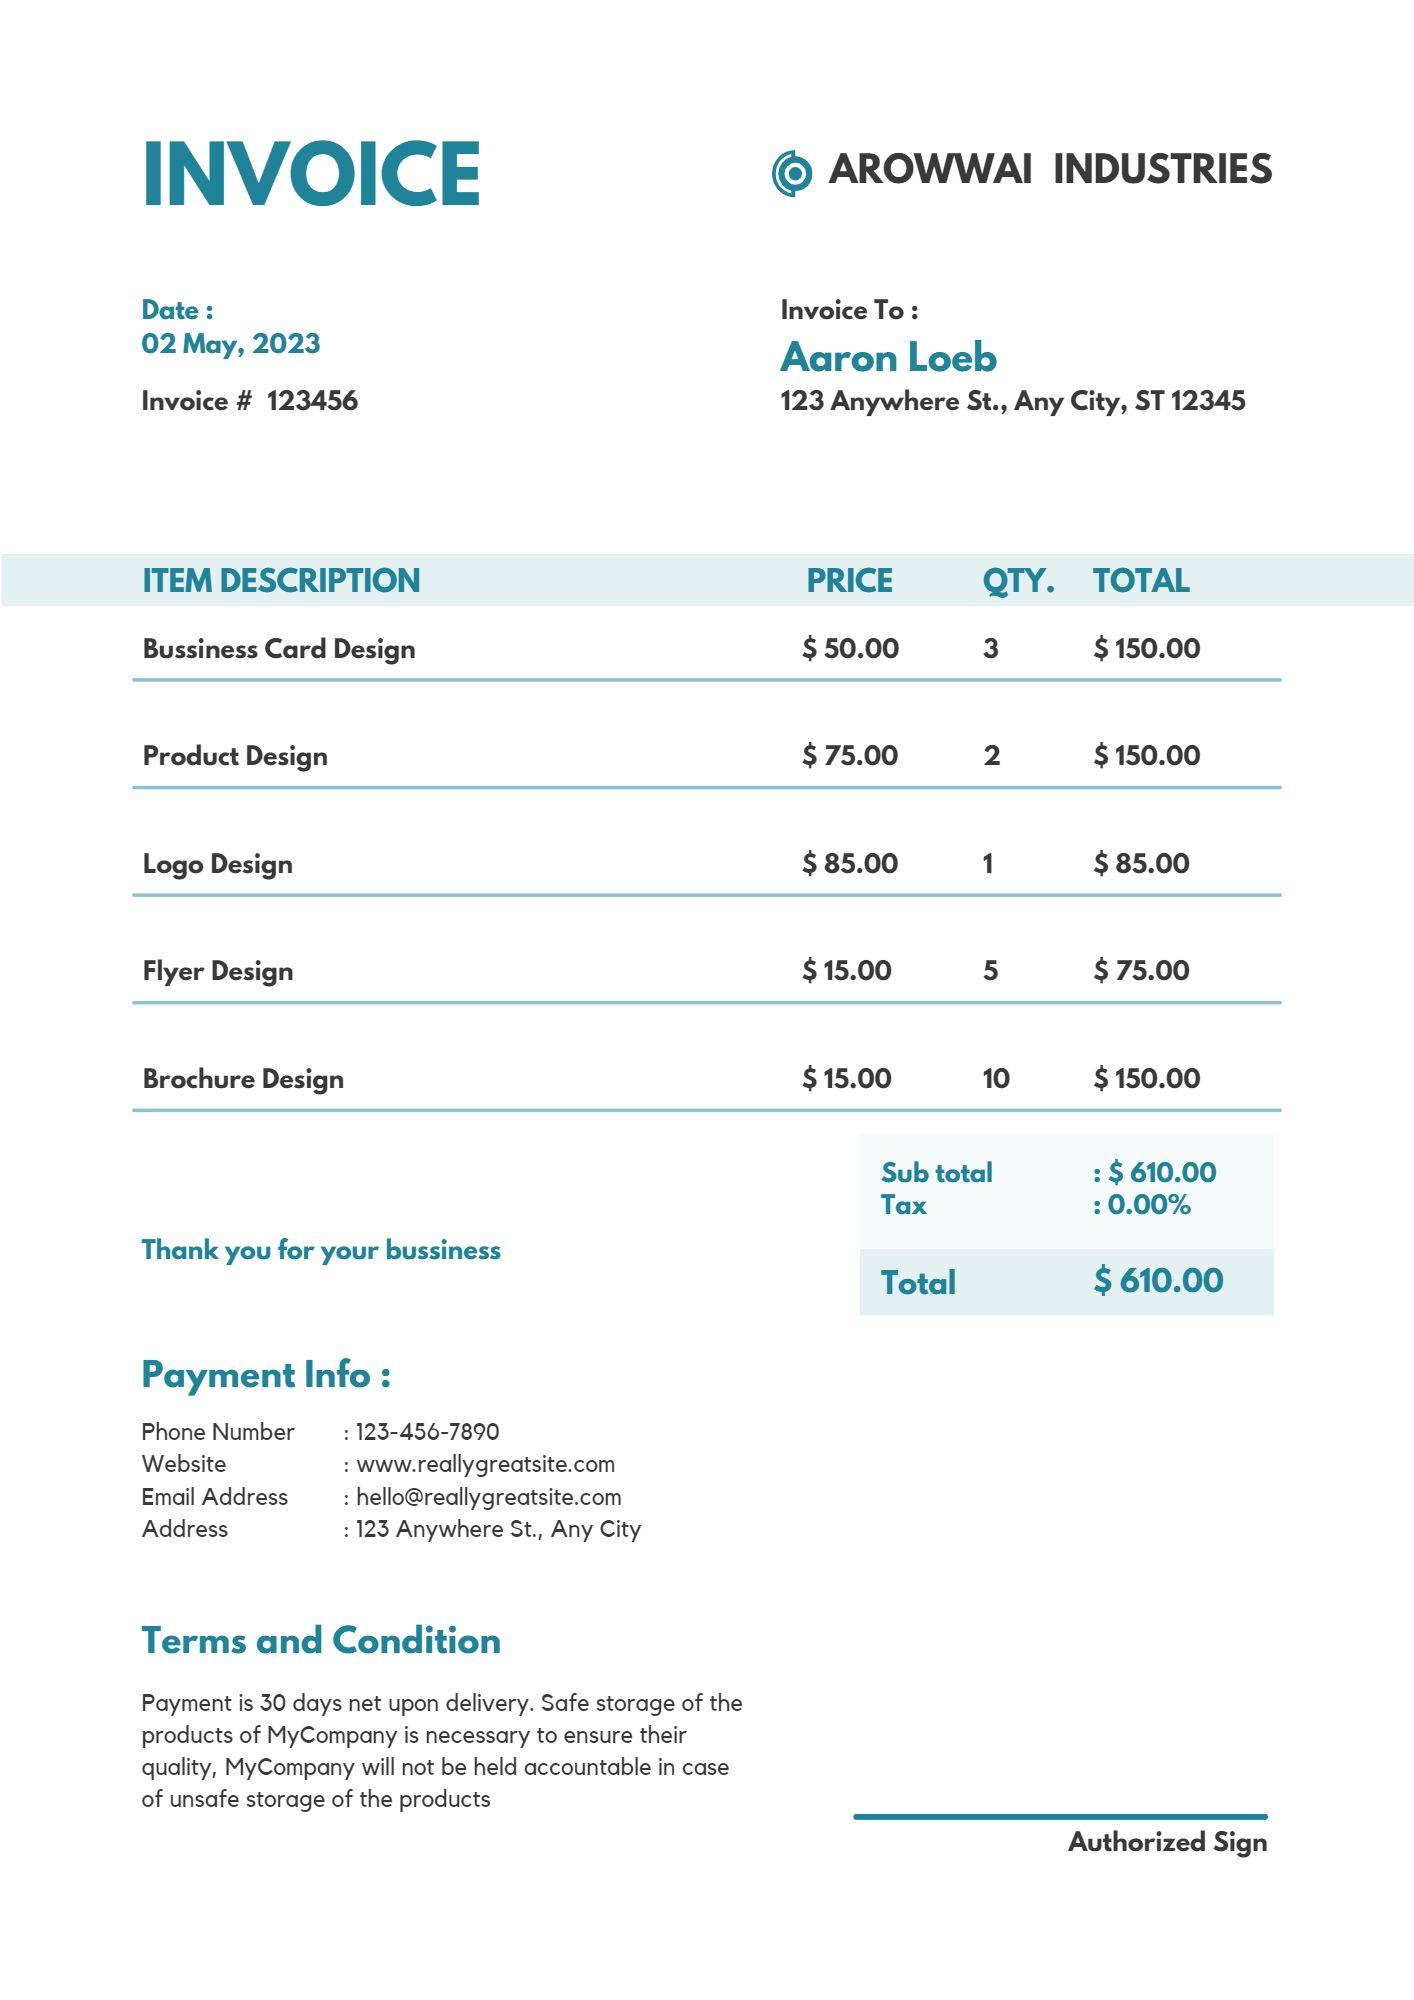ROI: (132, 542, 1269, 1123)
